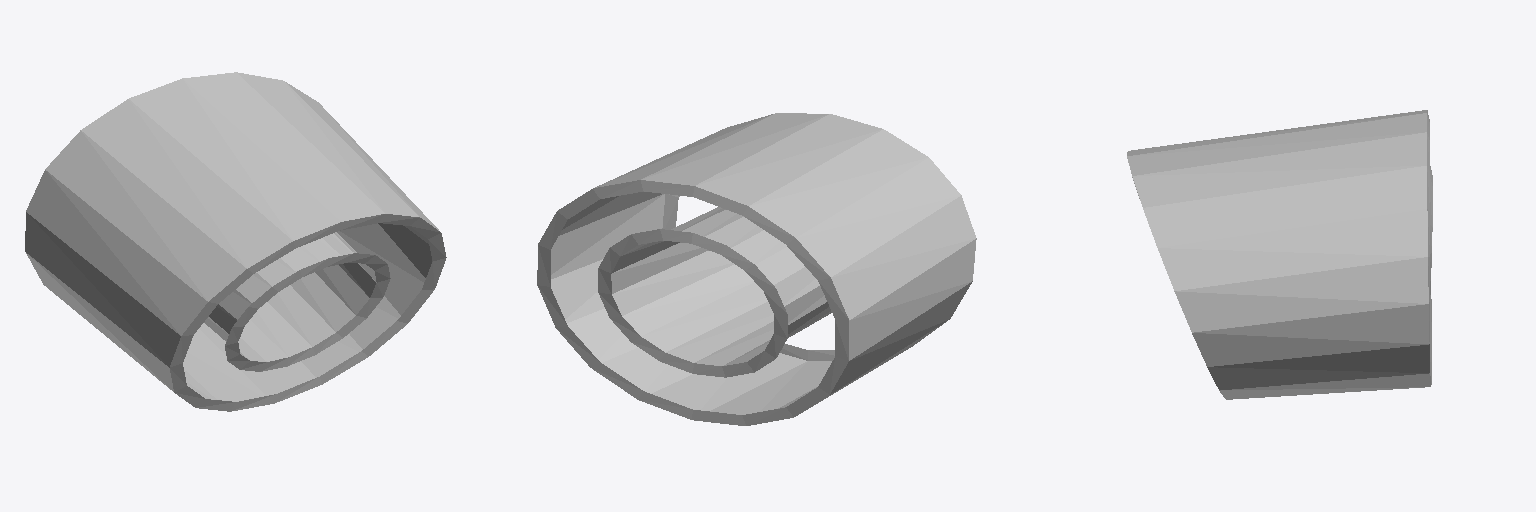
File: M-x-Start.obj
3 renders of one model, left to right at view 1: azimuth 30°, elevation 25°; view 2: azimuth 150°, elevation 25°; view 3: azimuth 270°, elevation 25°, orthographic.
Visible parts, largest first — view 1: M_x_Start; view 2: M_x_Start; view 3: M_x_Start.
Part boxes in pixels (x1,y1,x2,y2): M_x_Start: (25, 72, 446, 411); M_x_Start: (537, 113, 976, 425); M_x_Start: (1127, 110, 1432, 399).
Size of the model in its own units: 657 by 498 by 559.